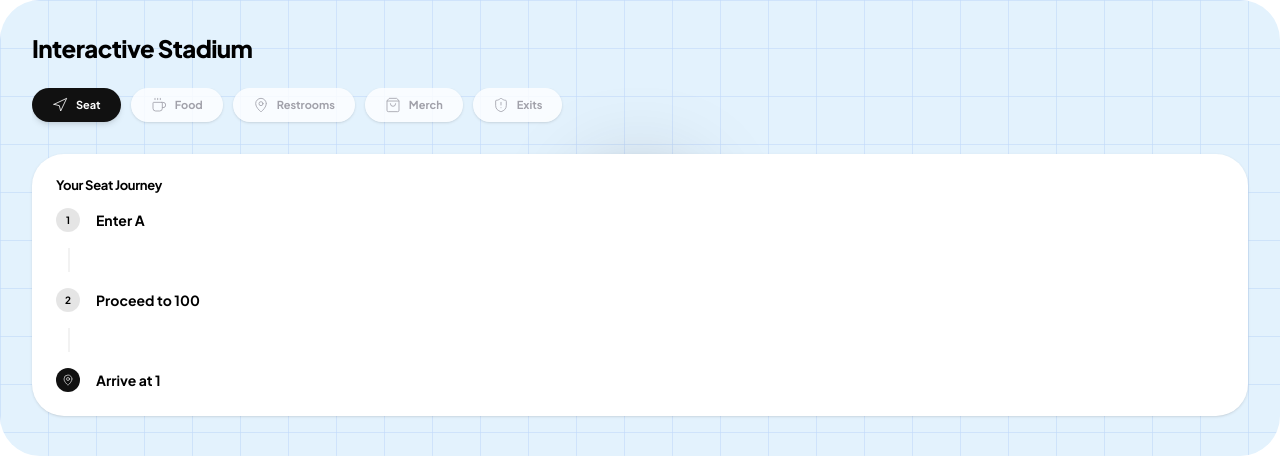
Test: StadiumMapWidget › switches to Merch filter
Click the button with aria-label "filter by merch". click: [414, 105]
box: [365,88,463,122]
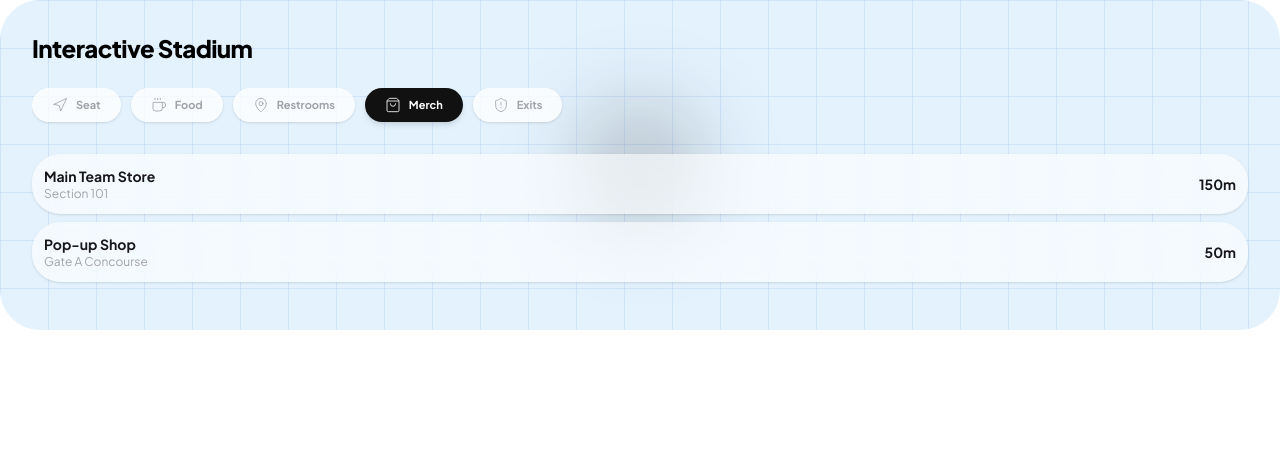
Expected: the text "Main Team Store" is shown, [44,166,155,186]
